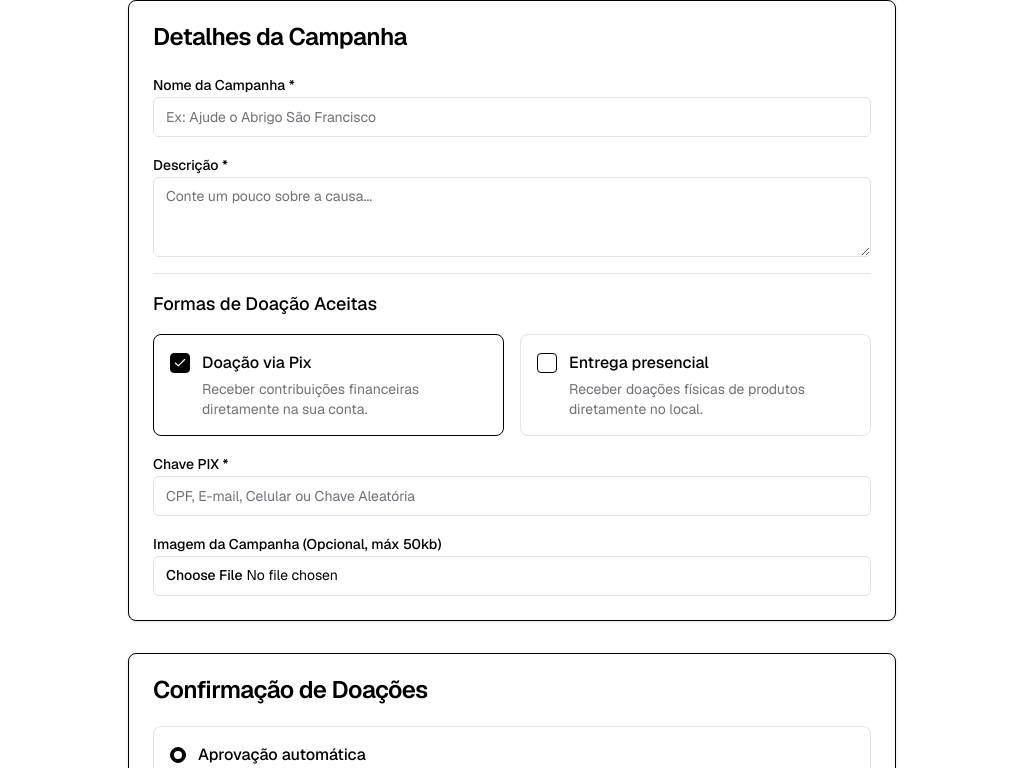
CampaignForm Component › displays action error banner when create or update fails
In the field labelled "Nome da Campanha *": (512, 117) [153,97,871,137], type "Campanha Falha"
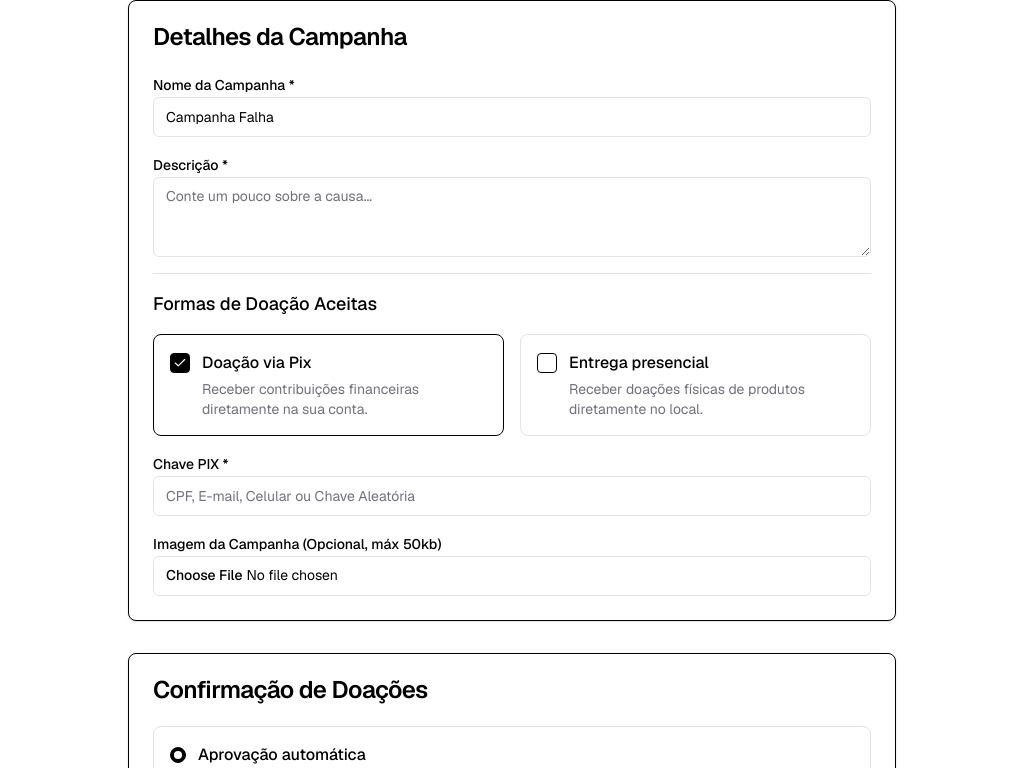
In the text box labelled "Descrição *": (512, 217) [153,177,871,257], type "Descrição detalhada com pelo menos dez caracteres"
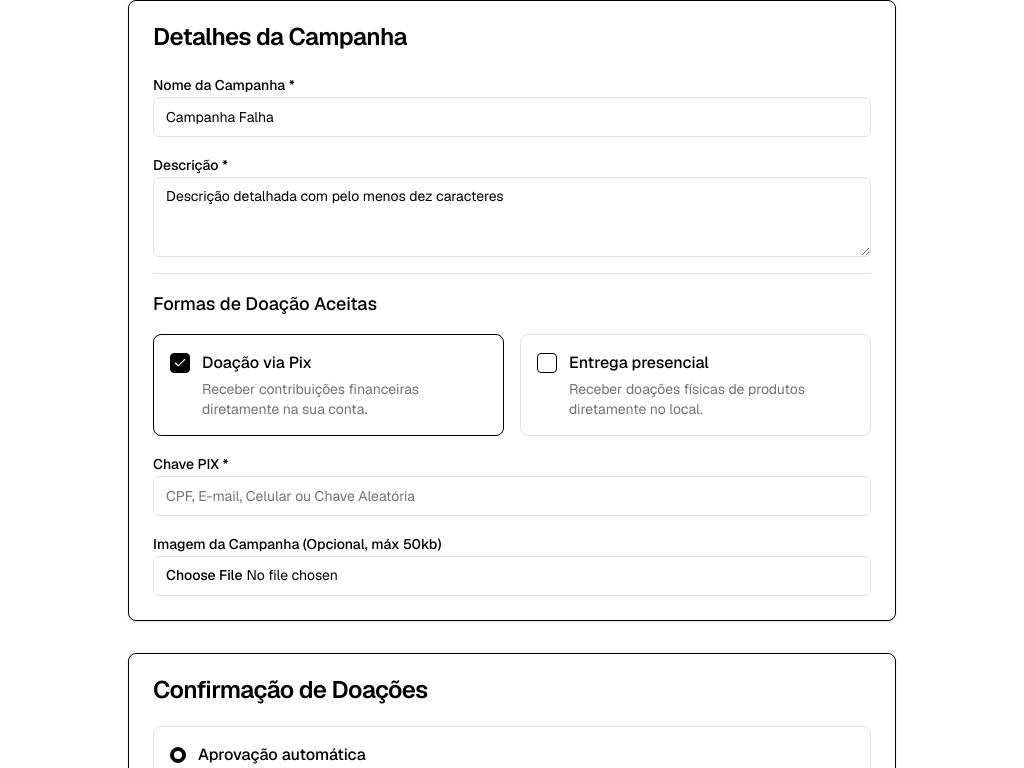
In the field labelled "Chave PIX *": (512, 496) [153,476,871,516], type "ong@pix.com.br"
(page scrolled)
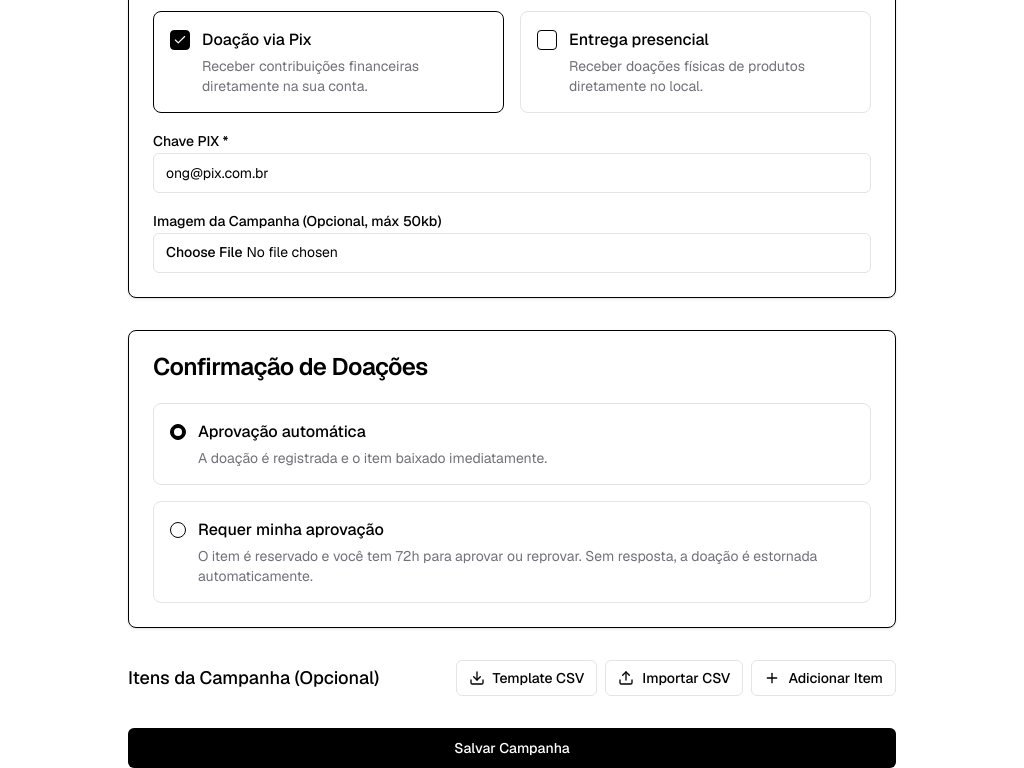
Click the button "Salvar Campanha": (512, 748) [128,728,896,767]
(page scrolled)
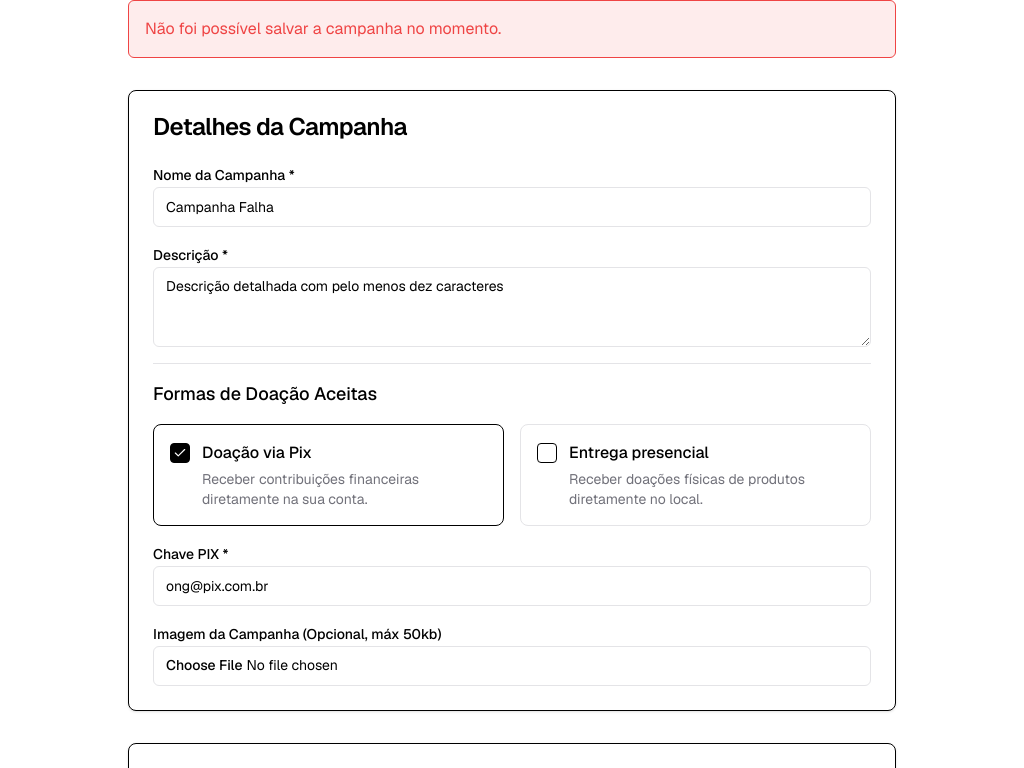
Check: the text "Não foi possível salvar a campanha no momento." is shown, box [128,0,896,58]
